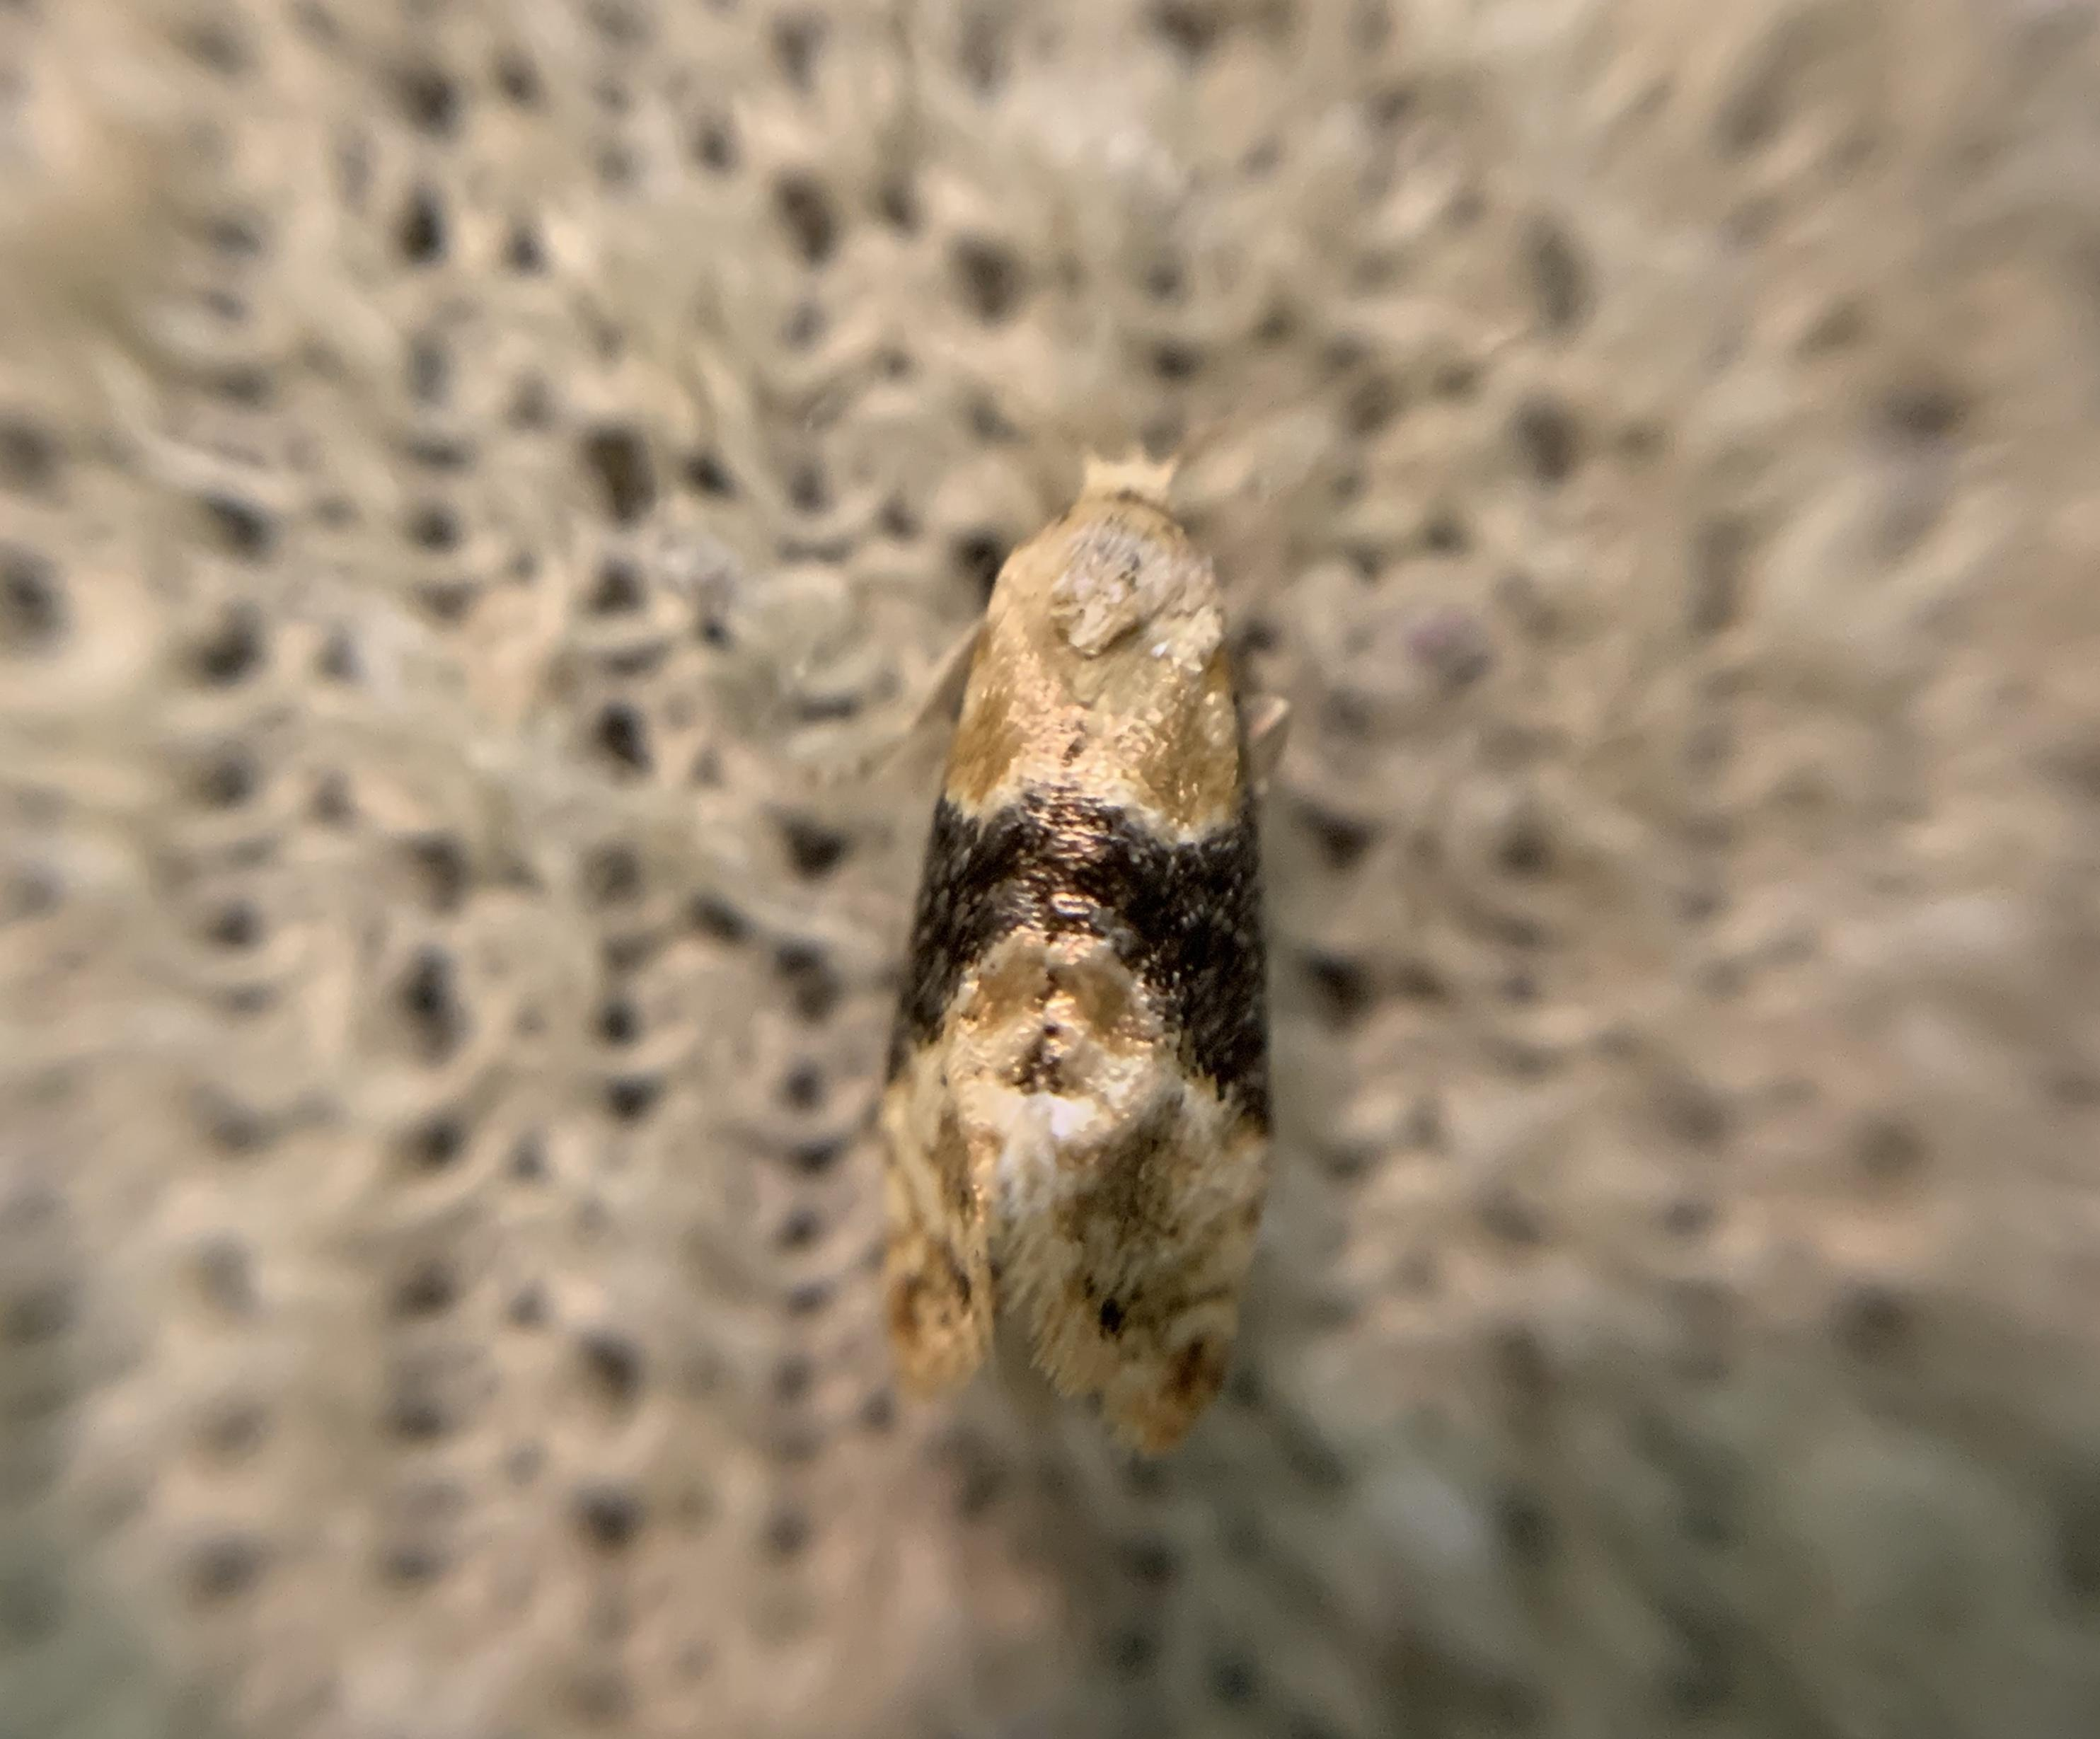Eupoecilia Ambiguella: (867, 447, 1294, 1462)
